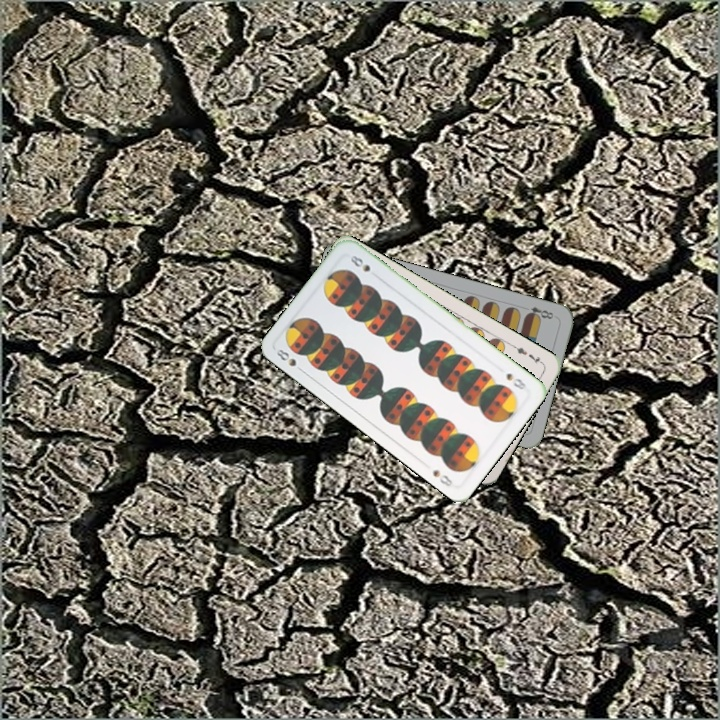E7: (509, 341, 546, 367)
E8: (522, 302, 556, 322)
S8: (272, 345, 307, 375), (502, 369, 531, 392)
